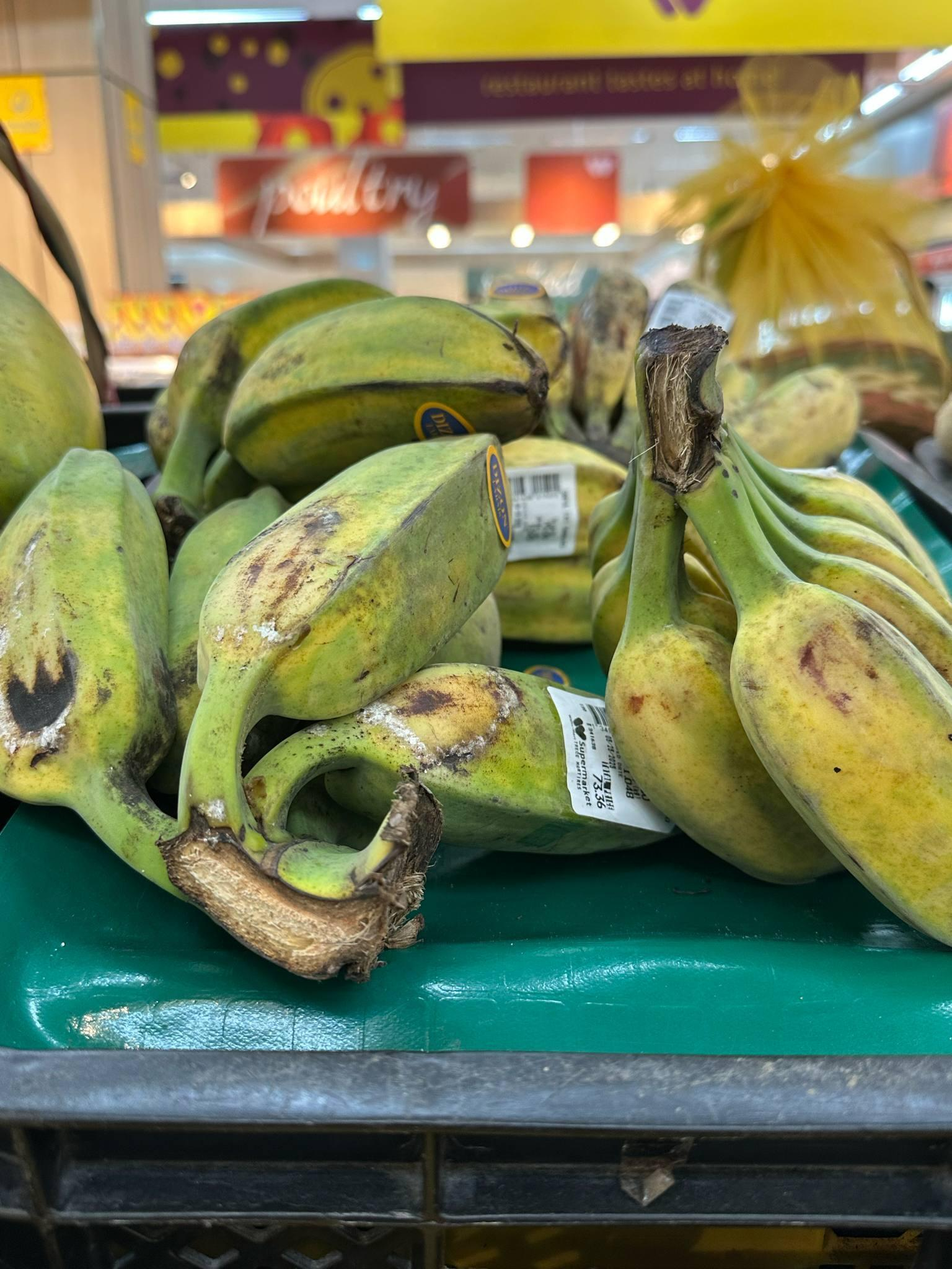underripe: (0, 434, 672, 853), (590, 470, 951, 946), (148, 279, 548, 500), (495, 436, 626, 643)
